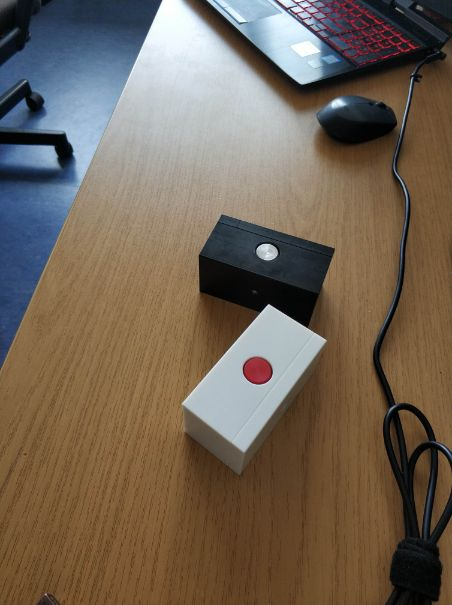black+black+silver: (197, 211, 340, 329)
white+white+red: (179, 303, 326, 481)
